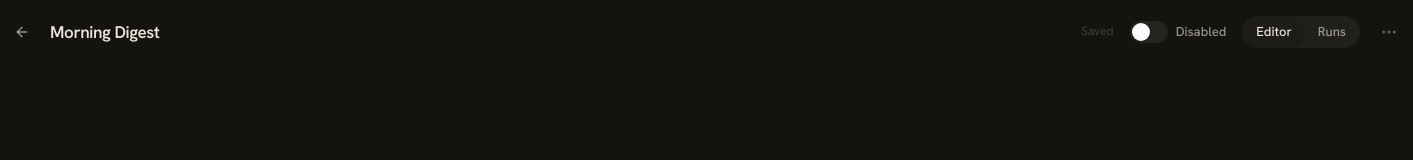
Scenario: workflow editor surface › switches to the runs lens without leaving the page
Click the button "Runs" at [1332, 32], box [1306, 18, 1358, 46]
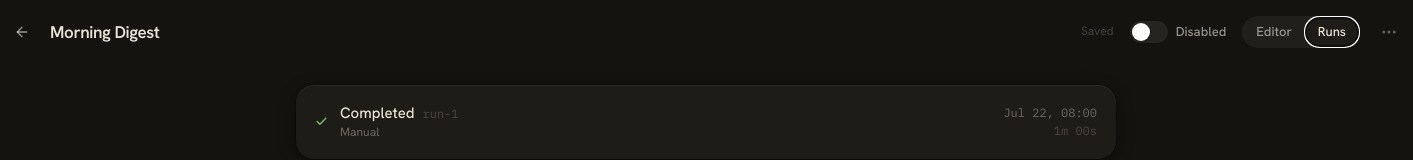
Expected: the text "Completed" is shown, [340, 102, 414, 124]
Expected: the text "run-1" is shown, [422, 105, 458, 123]
